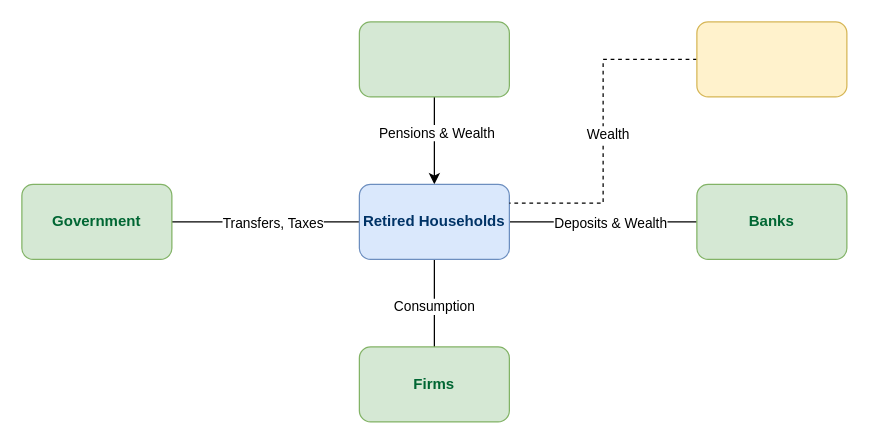
The diagram is 869 pixels wide and 444 high, and some of its shapes have lost their labels. The shapes that lost their labels are listed below. From the top down, each one's centre as x and y in pixels, then its label:
At pixel 433 59: "Pension Funds".
At pixel 771 59: "Housing Market".
